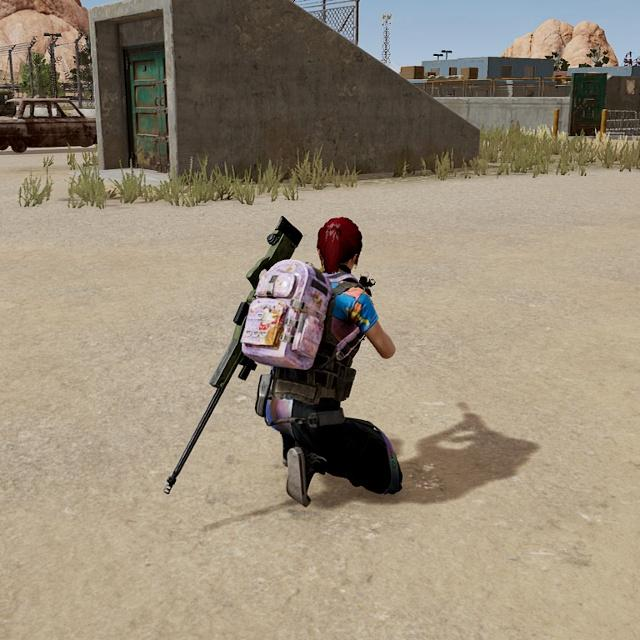head: (312, 216, 367, 277)
people: (245, 214, 408, 512)
